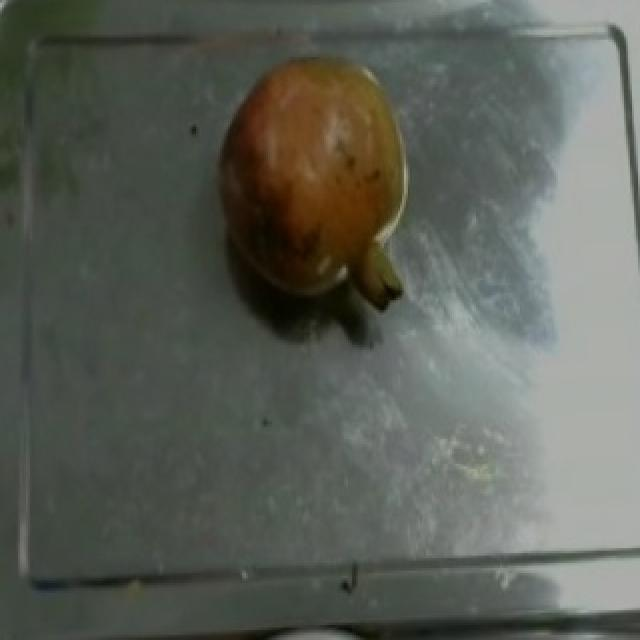fruit: (192, 27, 422, 310)
